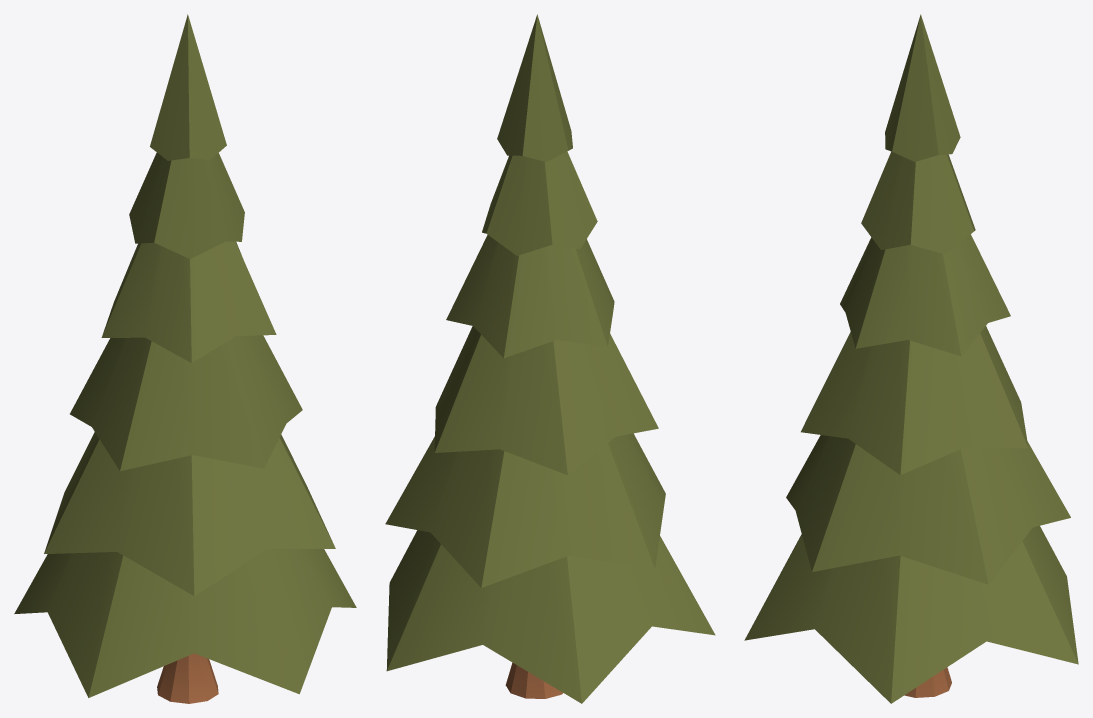
The model's file is Tree6.glb.
3 renders of one model, left to right at view 1: azimuth 30°, elevation 25°; view 2: azimuth 150°, elevation 25°; view 3: azimuth 270°, elevation 25°, orthographic.
Visible parts, largest first — view 1: Pinetree Leaves.008; view 2: Pinetree Leaves.008; view 3: Pinetree Leaves.008.
Part boxes in pixels (x1,y1,x2,y2): Pinetree Leaves.008: (14, 14, 356, 703); Pinetree Leaves.008: (385, 14, 715, 703); Pinetree Leaves.008: (744, 14, 1078, 703).
Bounding box in the file's own units: 1.45 × 3.2 × 1.44.
